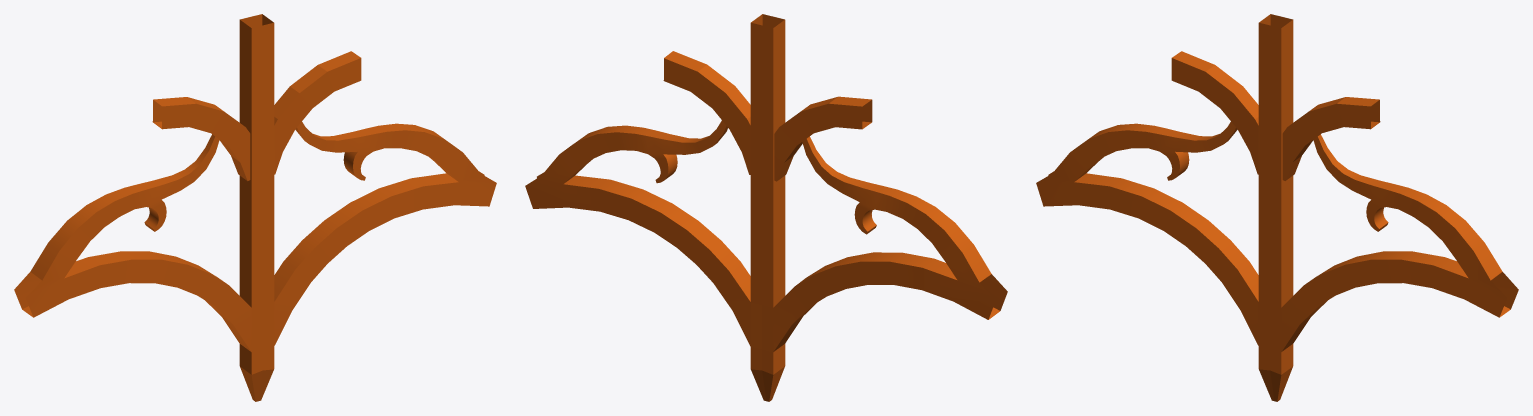
Rendered from dfk_beamwork_3.fbx.
3 renders of one model, left to right at view 1: azimuth 30°, elevation 25°; view 2: azimuth 150°, elevation 25°; view 3: azimuth 330°, elevation 25°, orthographic.
Parts seen in each view (by area): view 1: Beamwork_3; view 2: Beamwork_3; view 3: Beamwork_3.
Boxes of the visible parts, x1=… form: Beamwork_3: x1=14, y1=14, x2=496, y2=401; Beamwork_3: x1=525, y1=14, x2=1007, y2=401; Beamwork_3: x1=1036, y1=14, x2=1518, y2=401.
Bounding box in the file's own units: 3.25 × 2.5 × 0.1615.
